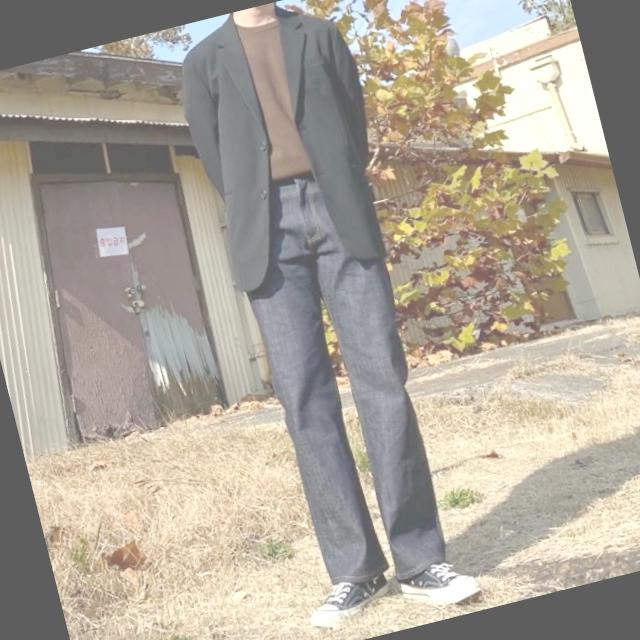blazer: (168, 0, 411, 297)
denimpants: (222, 157, 463, 598)
